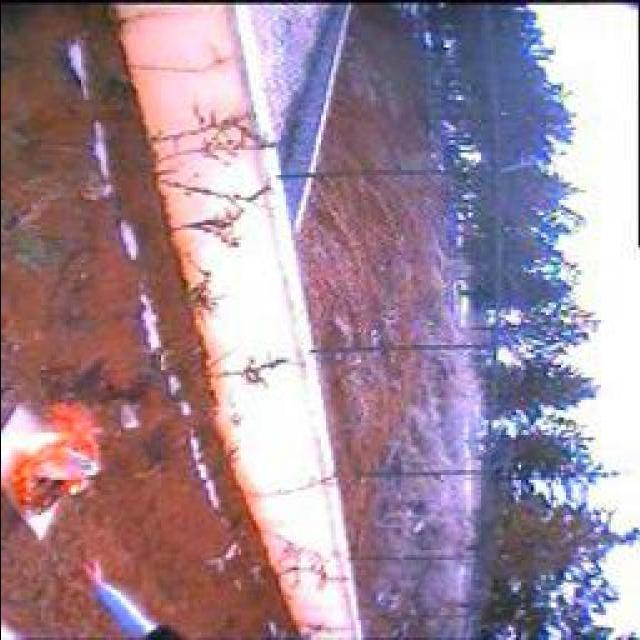Fire: (3, 367, 143, 532)
